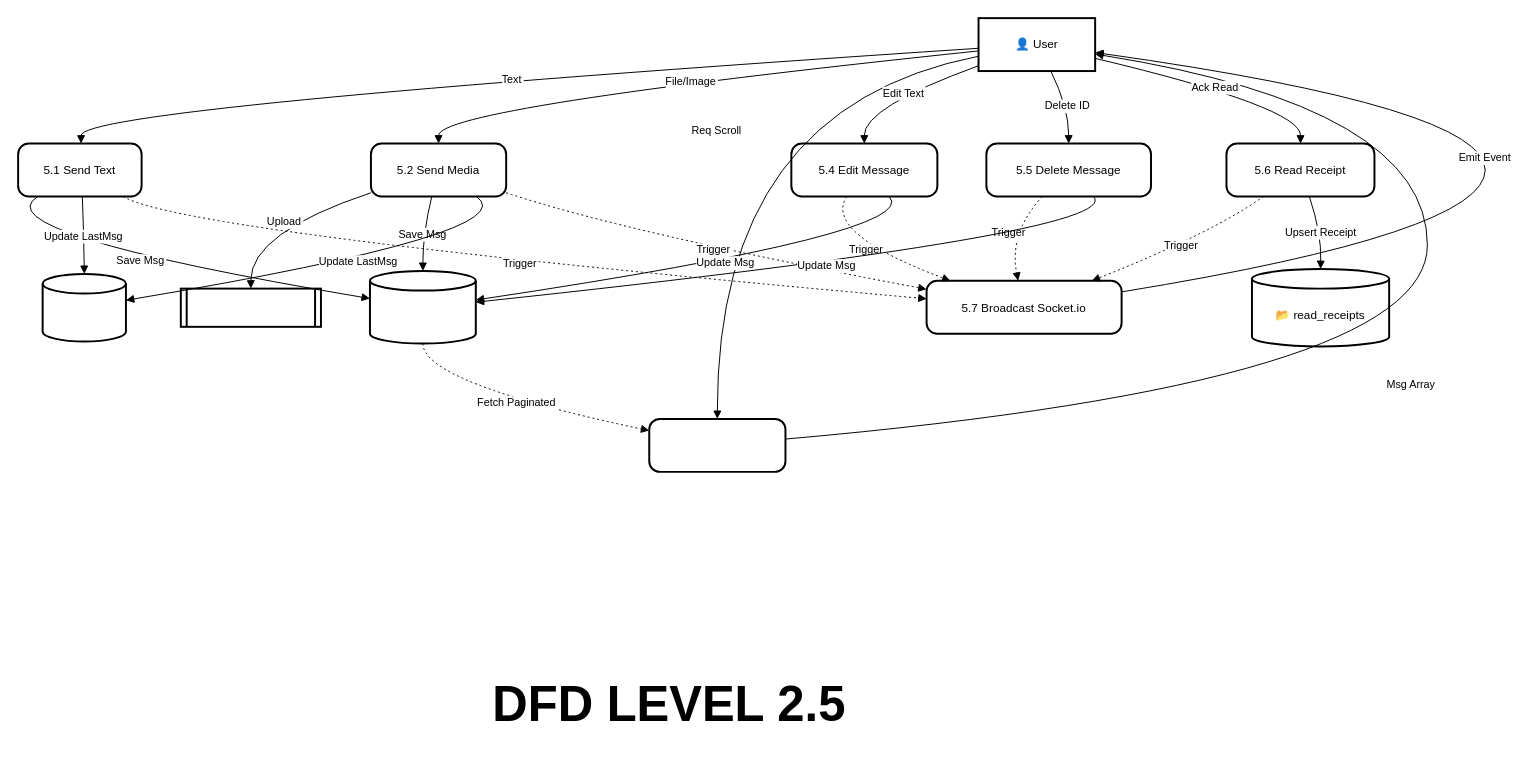
Some shapes in this 1529 by 760 pixel diagram are drawn without their labels. The centre of each missing label's shape, as x and y in pixels:
"5.3 Get History" belongs at point 717,444.
"☁️ File Storage" belongs at point 250,307.
"📂 messages" belongs at point 422,307.
"📂 rooms" belongs at point 83,307.
